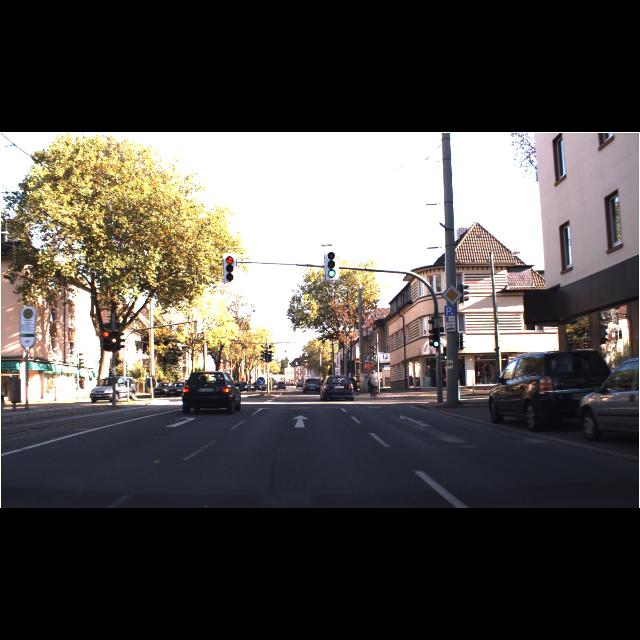mandatory: (256, 376, 266, 386)
other: (441, 284, 464, 306)
